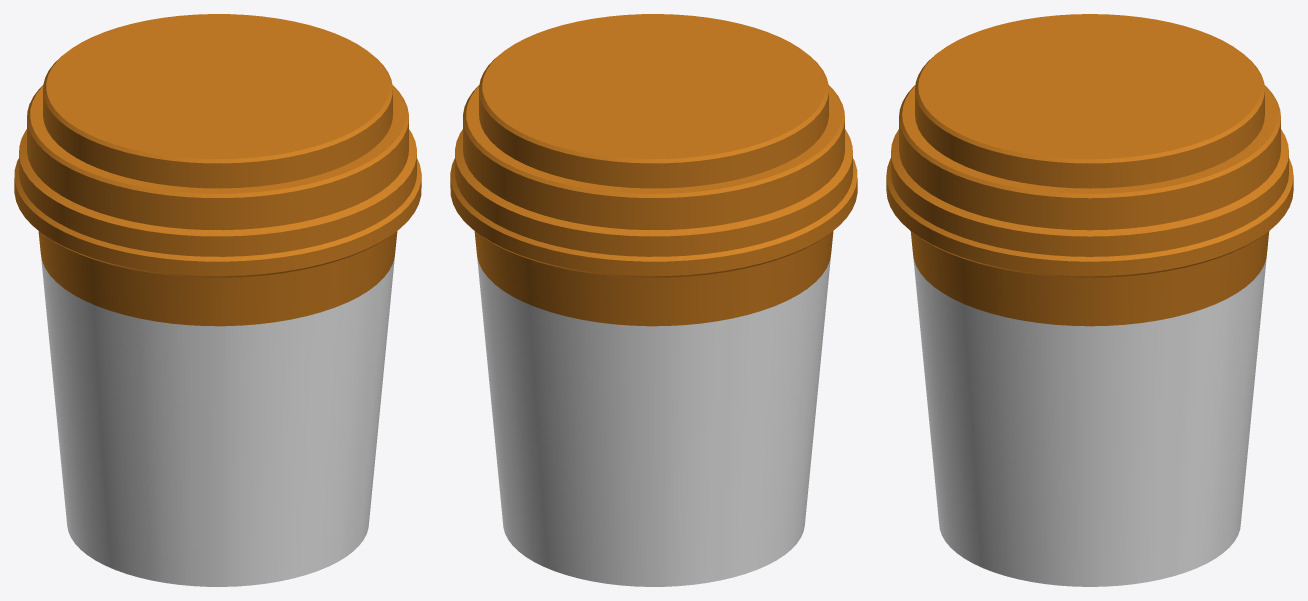
3 renders of one model, left to right at view 1: azimuth 30°, elevation 25°; view 2: azimuth 150°, elevation 25°; view 3: azimuth 270°, elevation 25°, orthographic.
Visible parts, largest first — view 1: lid, body; view 2: lid, body; view 3: lid, body.
Boxes of the visible parts, bbox=[...] form: lid: bbox=[14, 14, 421, 326]; body: bbox=[41, 256, 394, 586]; lid: bbox=[450, 14, 857, 326]; body: bbox=[477, 256, 830, 586]; lid: bbox=[886, 14, 1293, 326]; body: bbox=[913, 258, 1266, 586].
Size of the model in its own units: 0.1268 by 0.15 by 0.1268.
